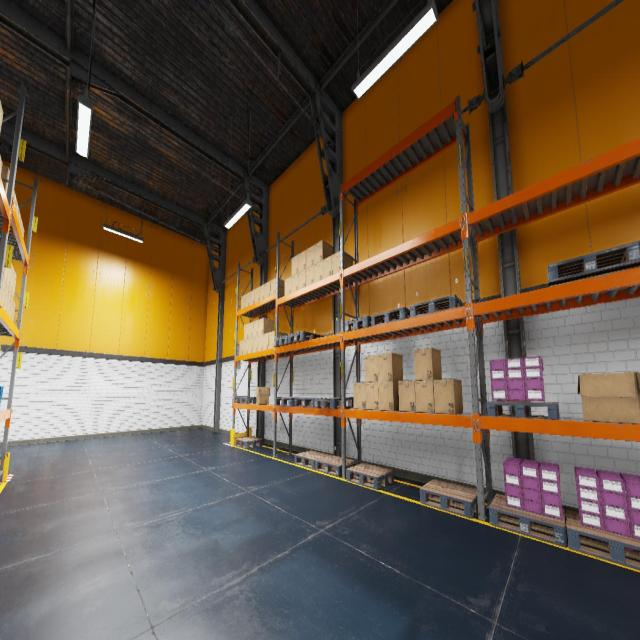box: (578, 372, 640, 424), (433, 379, 462, 414), (414, 347, 442, 380), (378, 352, 403, 382), (415, 380, 435, 413), (379, 382, 399, 411), (398, 380, 416, 412), (332, 250, 353, 274), (314, 240, 333, 264), (365, 382, 379, 410), (353, 382, 366, 410), (365, 354, 378, 382), (269, 331, 286, 348), (258, 318, 274, 336), (255, 386, 270, 404), (270, 277, 284, 296), (1, 165, 9, 195), (323, 256, 332, 278), (306, 245, 314, 268), (298, 249, 306, 272), (314, 260, 322, 282), (6, 263, 12, 292), (306, 265, 314, 286), (298, 269, 306, 289), (0, 282, 6, 308), (291, 254, 298, 276), (9, 266, 14, 296), (284, 276, 291, 296), (291, 273, 298, 292), (0, 98, 3, 137), (12, 271, 16, 300), (6, 293, 11, 315), (263, 332, 269, 350), (3, 267, 8, 287), (4, 287, 8, 312), (252, 336, 258, 352), (254, 287, 260, 302), (258, 334, 263, 351), (253, 320, 258, 337), (9, 297, 13, 318), (12, 301, 16, 322), (248, 322, 253, 338), (265, 281, 270, 297), (243, 339, 248, 354), (245, 292, 250, 307), (260, 284, 264, 300), (250, 289, 254, 305), (241, 294, 245, 310), (248, 338, 252, 353), (239, 340, 243, 355), (244, 324, 248, 339), (0, 281, 3, 300), (18, 209, 21, 225), (0, 153, 2, 175), (14, 190, 16, 208), (16, 200, 18, 217), (20, 218, 22, 232), (22, 224, 24, 238), (13, 189, 14, 196)
pallets: (566, 510, 640, 570), (546, 240, 640, 286), (489, 494, 566, 547), (420, 479, 478, 518), (486, 401, 560, 420), (346, 463, 394, 489), (410, 295, 462, 317), (315, 455, 356, 477), (371, 307, 410, 326), (294, 450, 331, 470), (288, 331, 323, 344), (344, 316, 371, 332), (314, 398, 354, 408), (294, 398, 330, 407), (235, 436, 262, 448), (274, 397, 305, 406), (274, 335, 294, 347), (236, 397, 256, 404), (0, 470, 4, 486)
